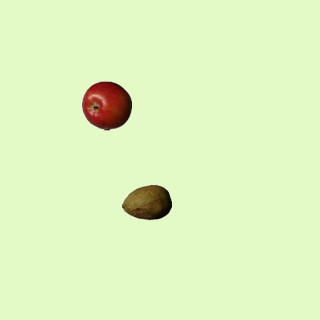Apple Braeburn: (81, 80, 131, 130)
Papaya: (121, 177, 171, 227)
